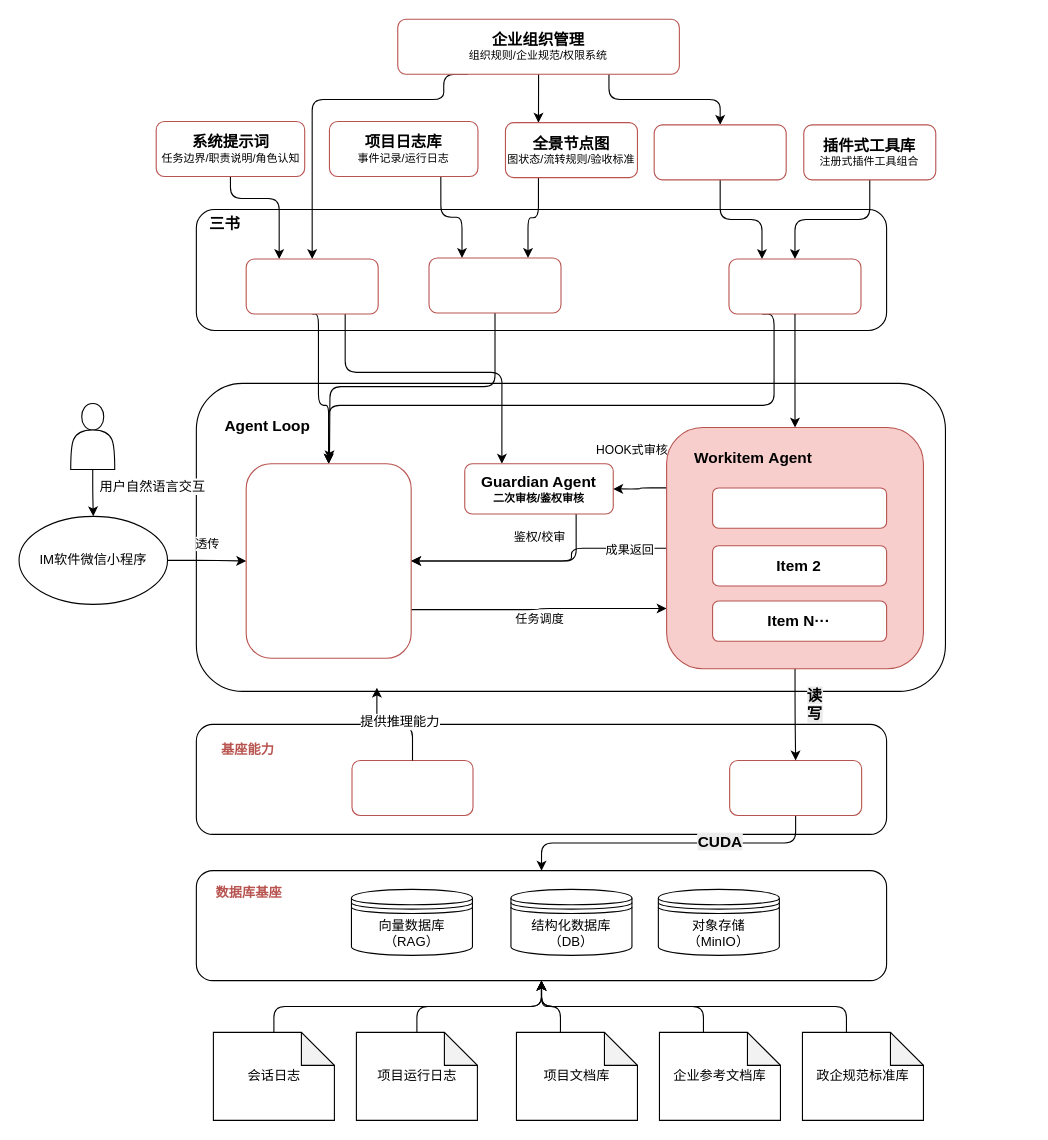
Image size: 1048x1140. Some labels were removed from this diagram. The shapes that lost their labels are listed below. From the top down, each one's centre as x and y in pixels, then its label:
the point at 719,152: Skill式 业务流 （sop） 业务流程/约束规则
the point at 311,286: 组织规则书 基础认知/组织约束
the point at 494,285: 项目态势书 项目进程状态/项目记忆
the point at 794,286: 系统说明书 任务边界/能力边界/工具集
the point at 799,507: Item 1
the point at 328,560: Session Agent 任务调度/会话响应
the point at 412,787: LLM 大语言模型API
the point at 795,787: 数据库驱动/ ORM 驱动封装
